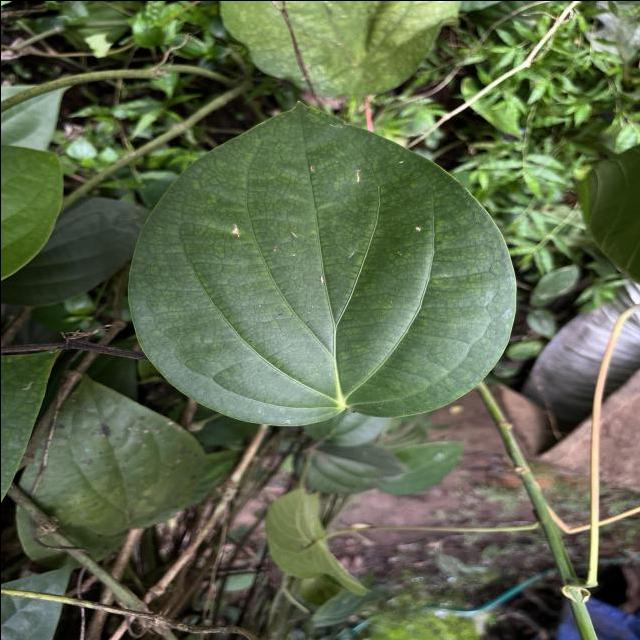Piper nigrum: (123, 96, 519, 428)
